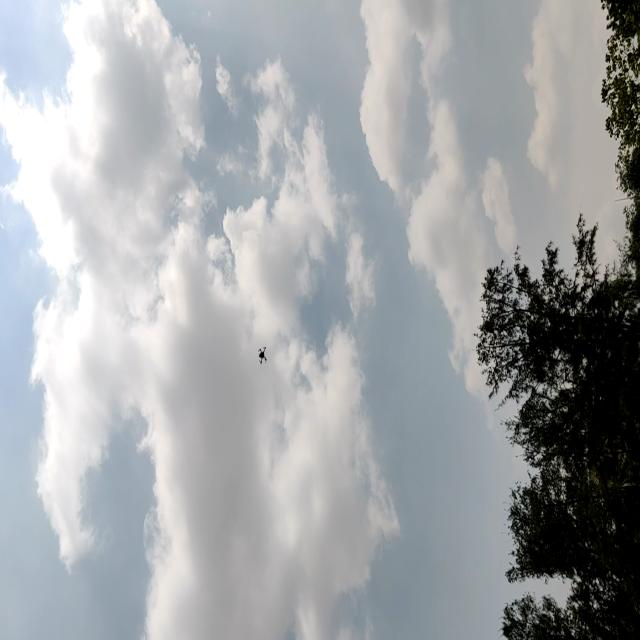drone: (253, 337, 270, 373)
